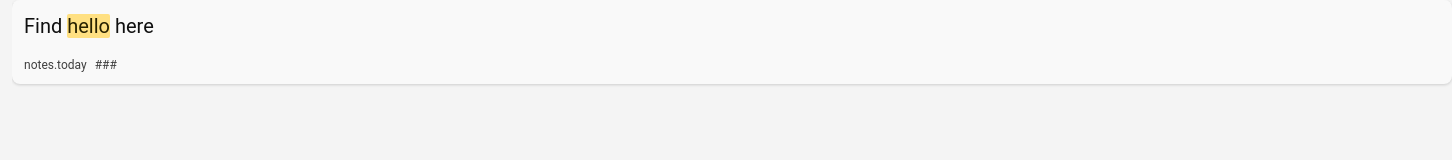
retains the result query and searches the open note without leaving it
The image size is (1452, 160).
Expected: the text "hello" is shown, [67,14,110,38]
Click the button at (732, 2), box [12,0,1451,84]
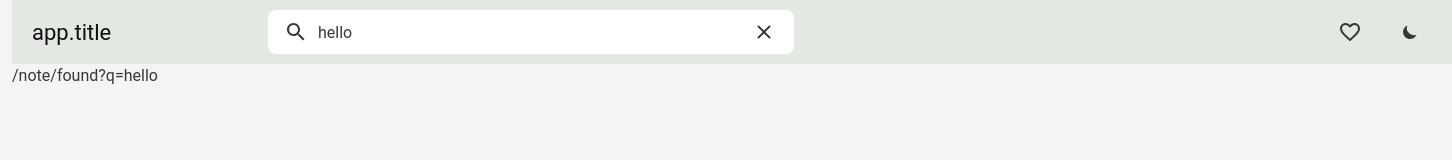
Expected: the search field holds "hello"
Replace the text in the search field with "new query" at (521, 32), box [316,10,726,54]
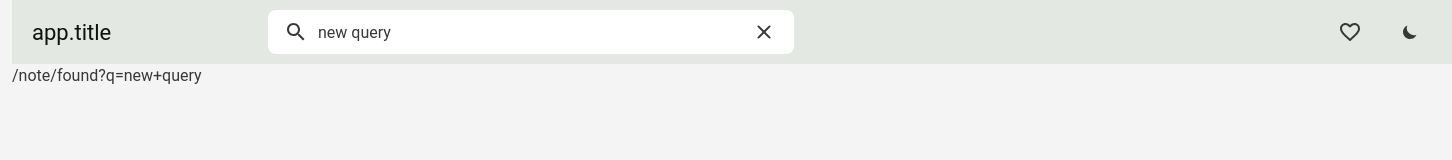
Expected: the text with test id "location" reads "/note/found?q=new+query", [12,66,202,85]
Click the button named "common.clear" at (764, 32), box [742,10,786,54]
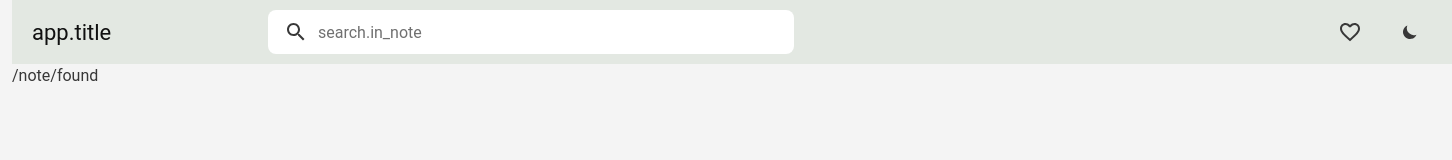
Expected: the text with test id "location" reads "/note/found", [12,66,98,85]
Expected: the search field is empty, [316,10,778,54]
